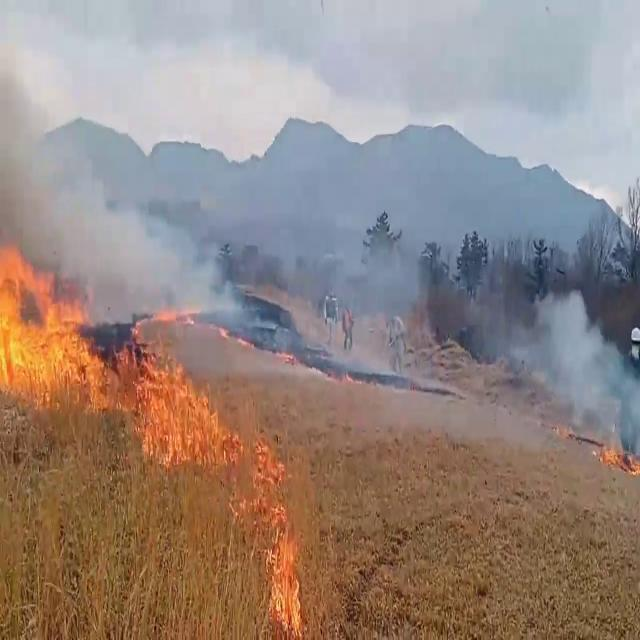Fire: (0, 235, 118, 400), (241, 428, 307, 628), (136, 342, 234, 462), (593, 430, 640, 472)
Smoke: (0, 23, 240, 333), (472, 244, 640, 458)
